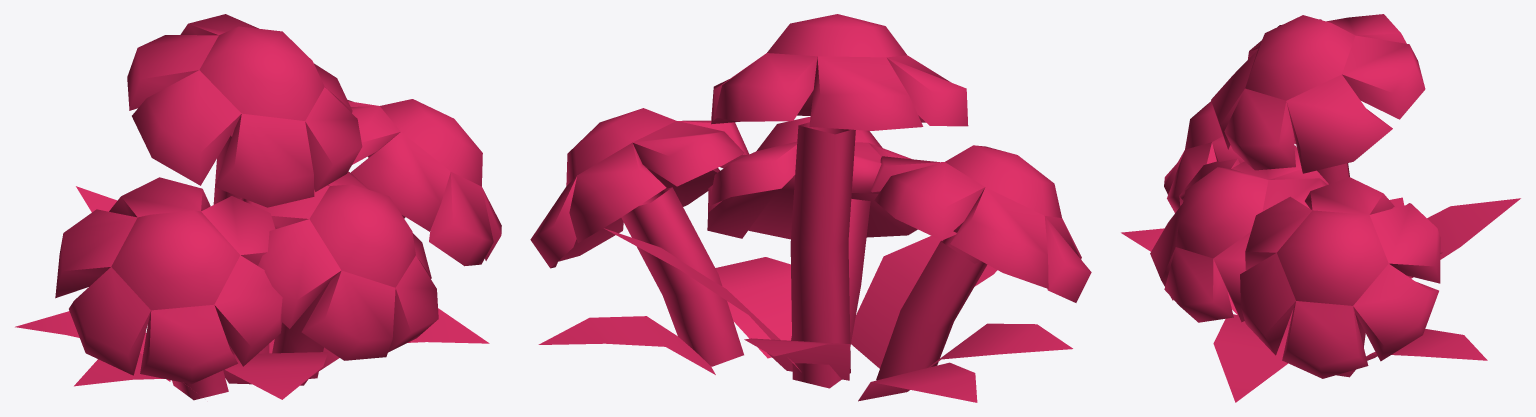
The model's file is Forest_Flowers.fbx.
The picture shows the model from 3 angles, left to right: view 1: azimuth 30°, elevation 25°; view 2: azimuth 150°, elevation 25°; view 3: azimuth 270°, elevation 25°; orthographic projection. The views are drawn at different scales.
Parts seen in each view (by area): view 1: Forest_Flowers; view 2: Forest_Flowers; view 3: Forest_Flowers.
Boxes of the visible parts, left/top/right/bottom form: Forest_Flowers: left=15, top=14, right=501, bottom=400; Forest_Flowers: left=530, top=14, right=1091, bottom=402; Forest_Flowers: left=1121, top=14, right=1520, bottom=402.
Size of the model in its own units: 41.41 by 28.73 by 34.82.
